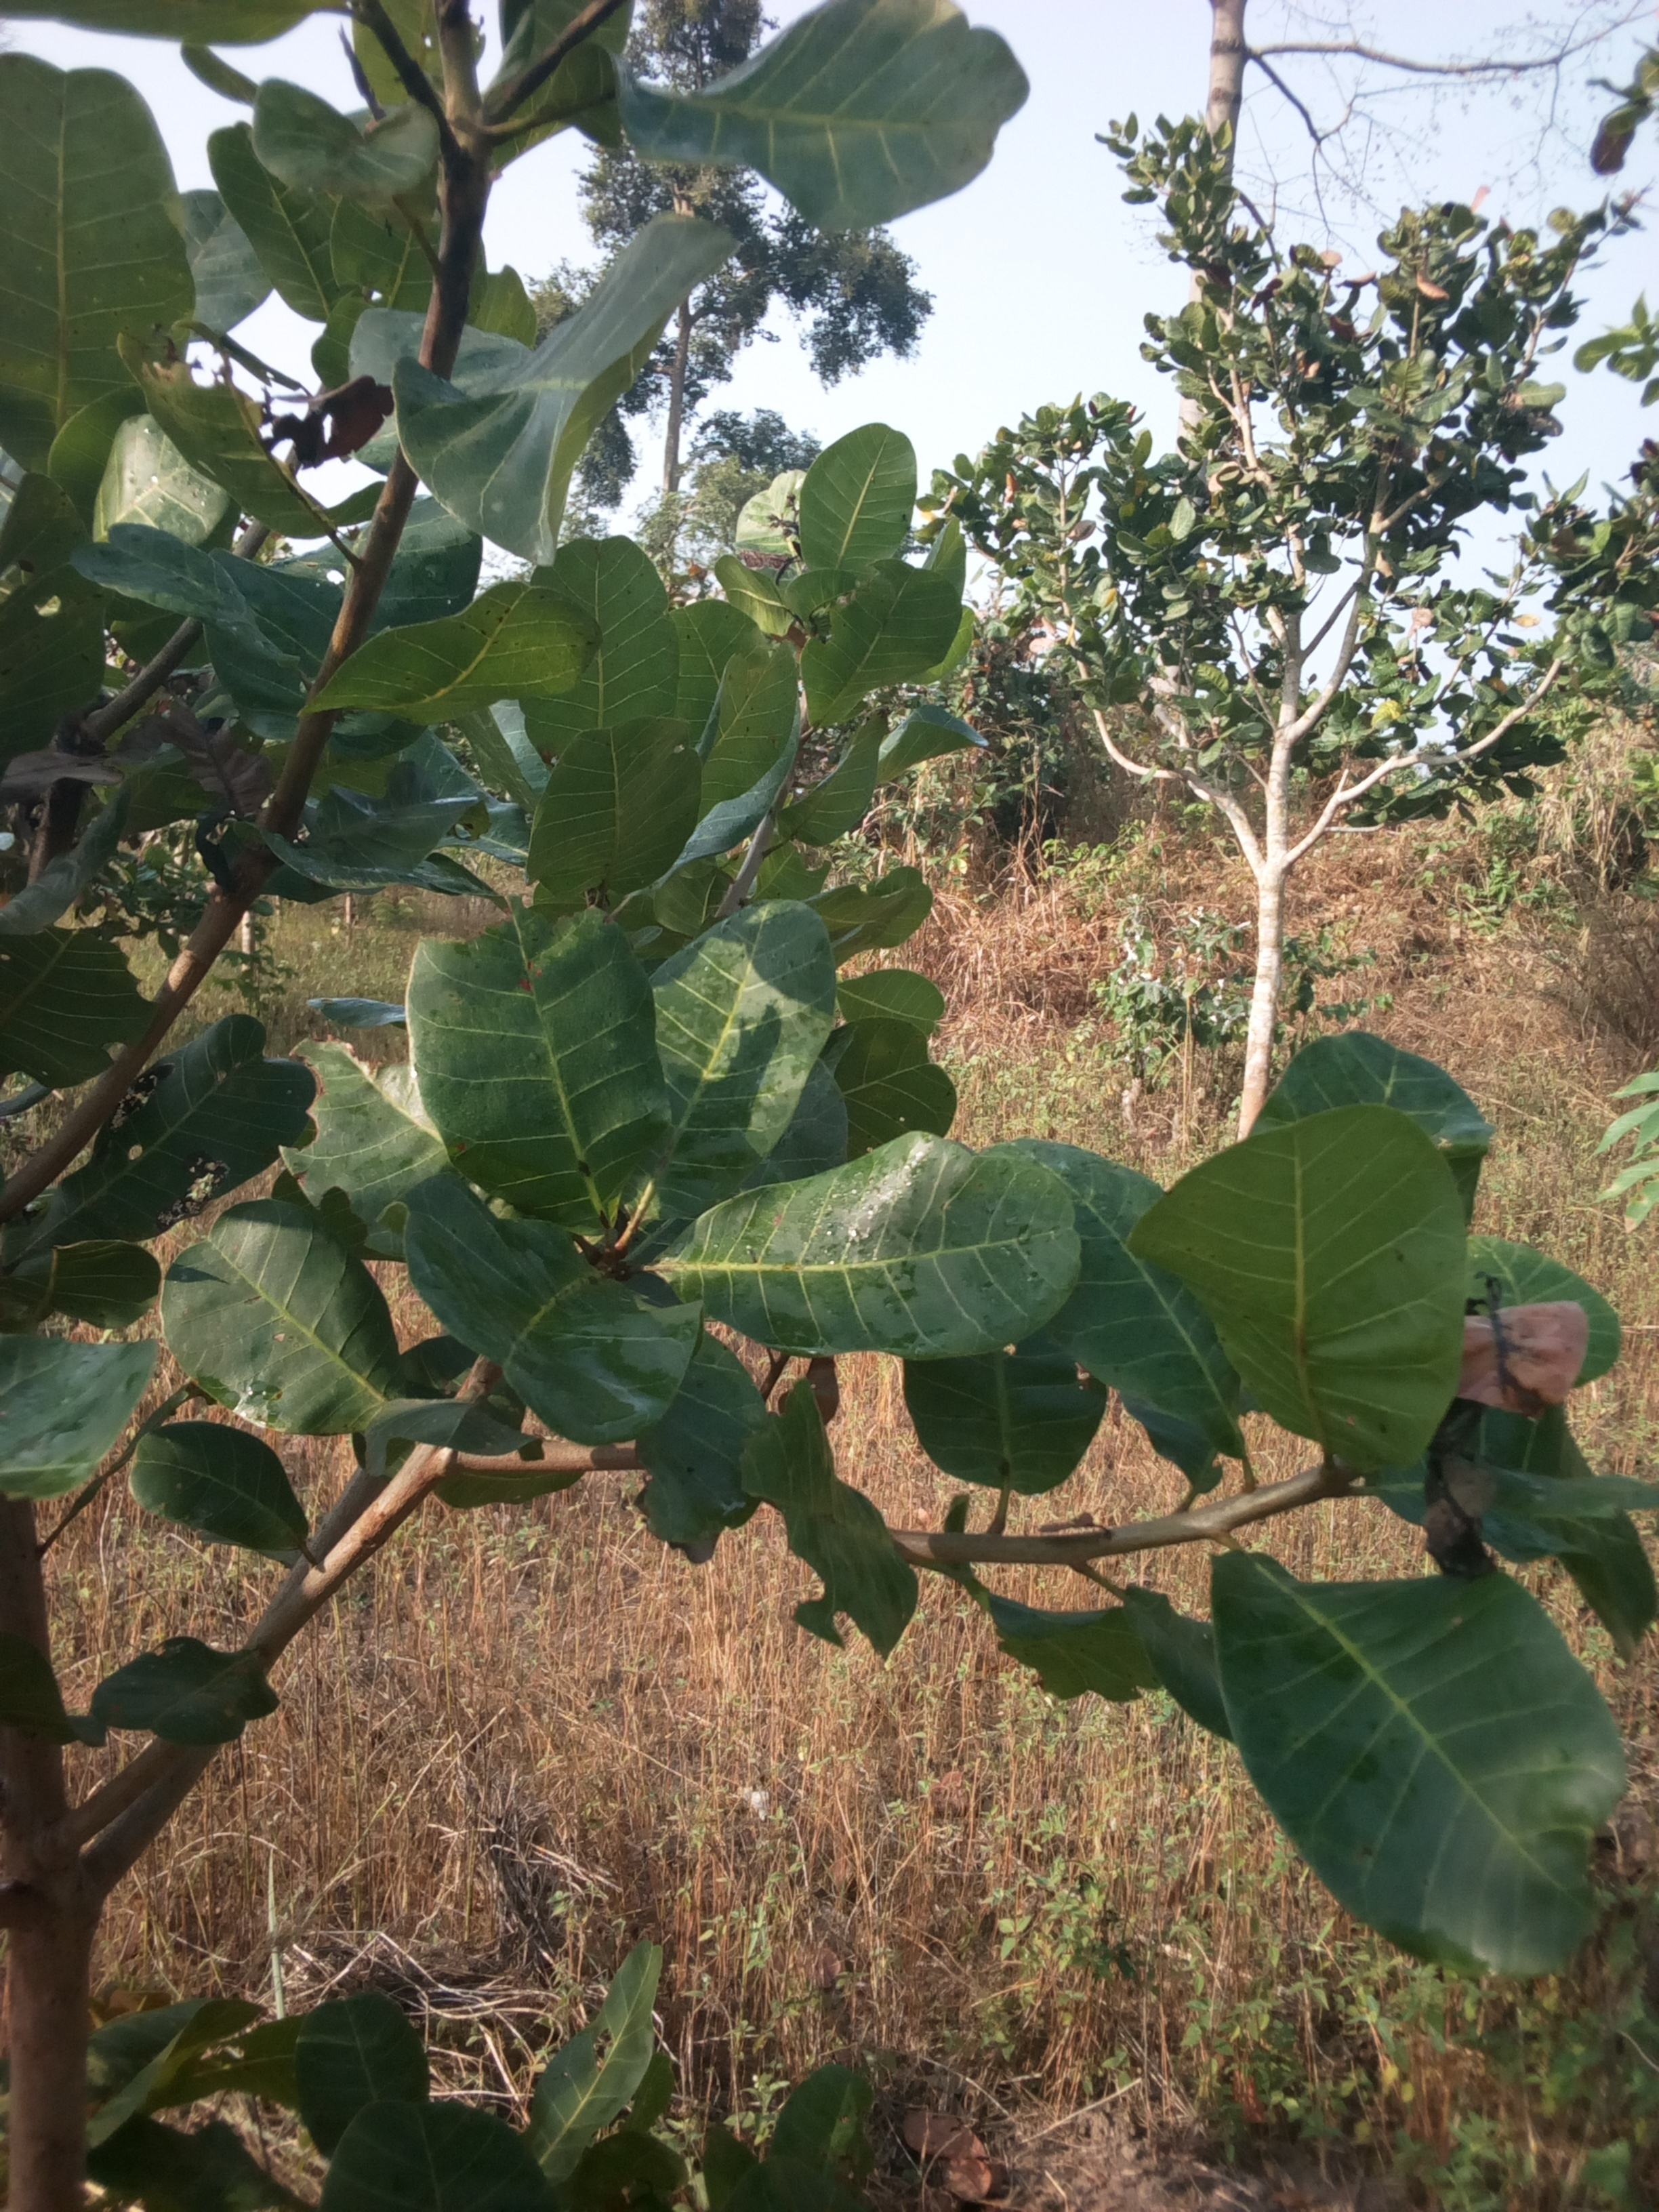Dessèchement des bourgeons: (1462, 1339, 1574, 1447)
